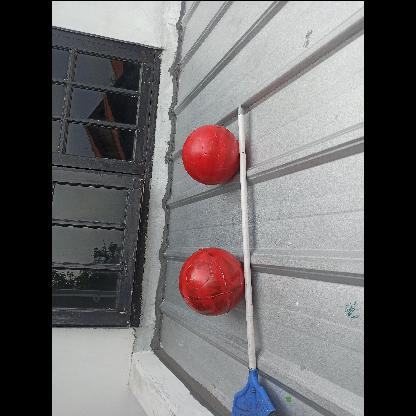red_ball: (177, 245, 245, 313), (181, 125, 239, 183)
